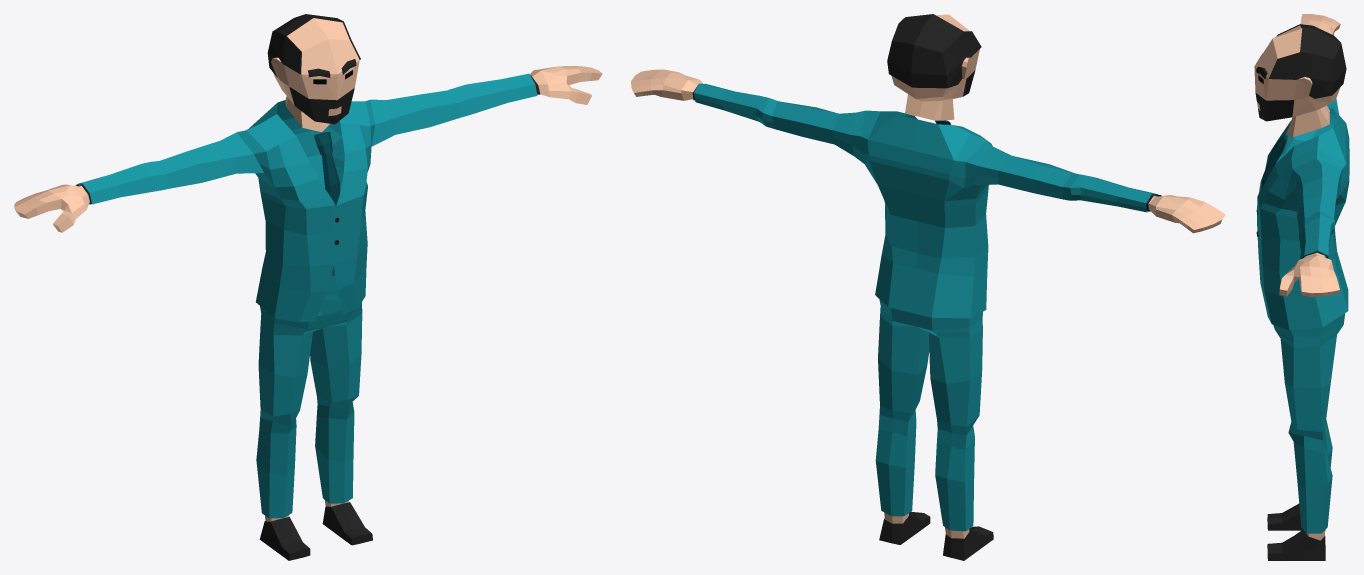
The model's file is NPC_Cian_Escenario2_Corbata.fbx.
3 renders of one model, left to right at view 1: azimuth 30°, elevation 25°; view 2: azimuth 150°, elevation 25°; view 3: azimuth 270°, elevation 25°, orthographic. The views are drawn at different scales.
Visible parts, largest first — view 1: Personaje; view 2: Personaje; view 3: Personaje.
Boxes of the visible parts, x1,y1,x2,y2 form: Personaje: (14, 14, 602, 560); Personaje: (631, 14, 1225, 560); Personaje: (1254, 14, 1349, 560).
Size of the model in its own units: 215 by 184 by 30.94.
